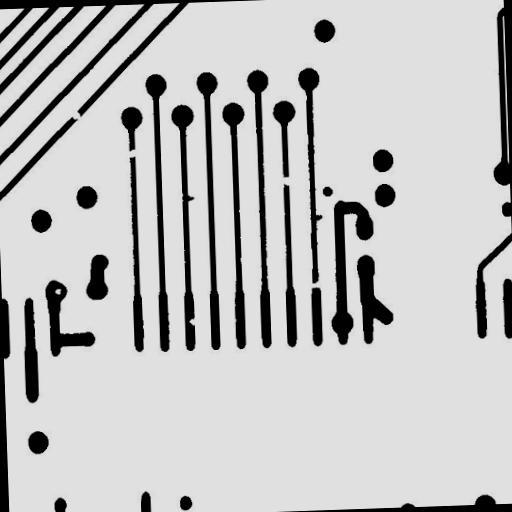copper: (314, 178, 340, 204)
mousebite: (180, 310, 202, 333)
open: (270, 168, 300, 194), (61, 102, 90, 126), (121, 140, 148, 164), (299, 273, 328, 295)
pin-hole: (46, 280, 68, 302)
spur: (304, 206, 330, 228), (176, 186, 202, 208)
